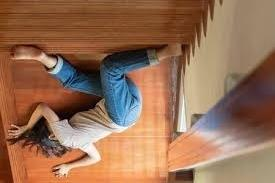fall: (4, 42, 183, 181)
